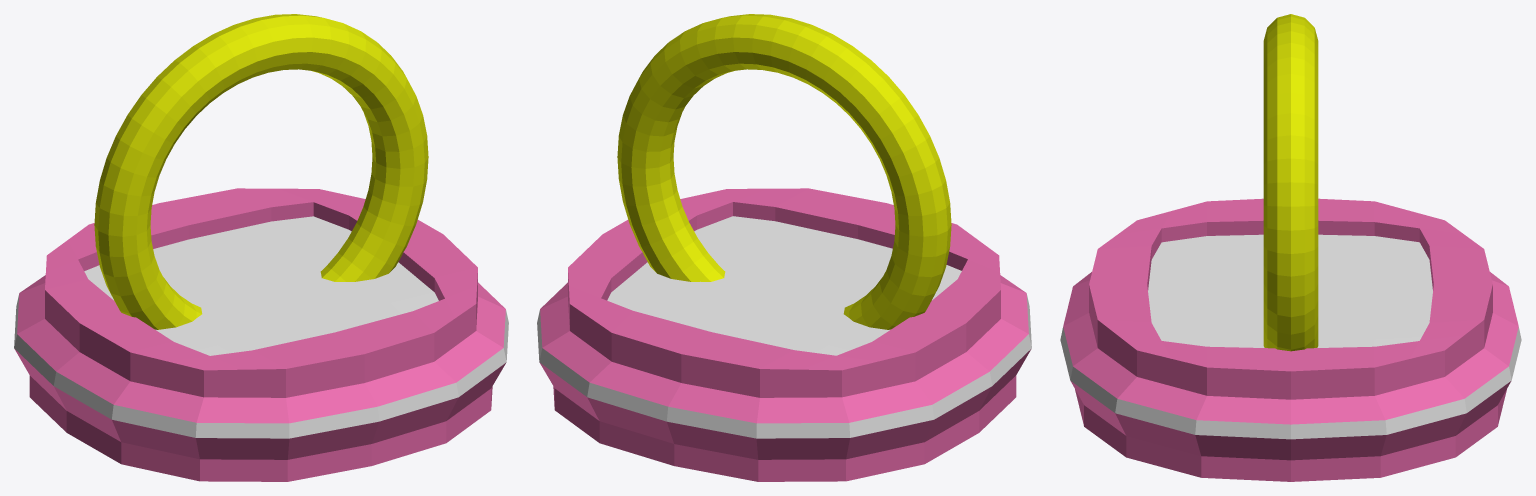
The model's file is podio1.fbx.
3 renders of one model, left to right at view 1: azimuth 30°, elevation 25°; view 2: azimuth 150°, elevation 25°; view 3: azimuth 270°, elevation 25°, orthographic. The views are drawn at different scales.
Parts seen in each view (by area): view 1: Cube; view 2: Cube; view 3: Cube.
Boxes of the visible parts, x1,y1,x2,y2 form: Cube: (14,14,508,481); Cube: (537,14,1031,481); Cube: (1060,14,1521,481).
Size of the model in its own units: 901 by 756 by 884.
